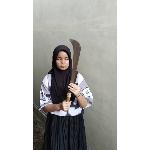Golok: (62, 36, 84, 104)
